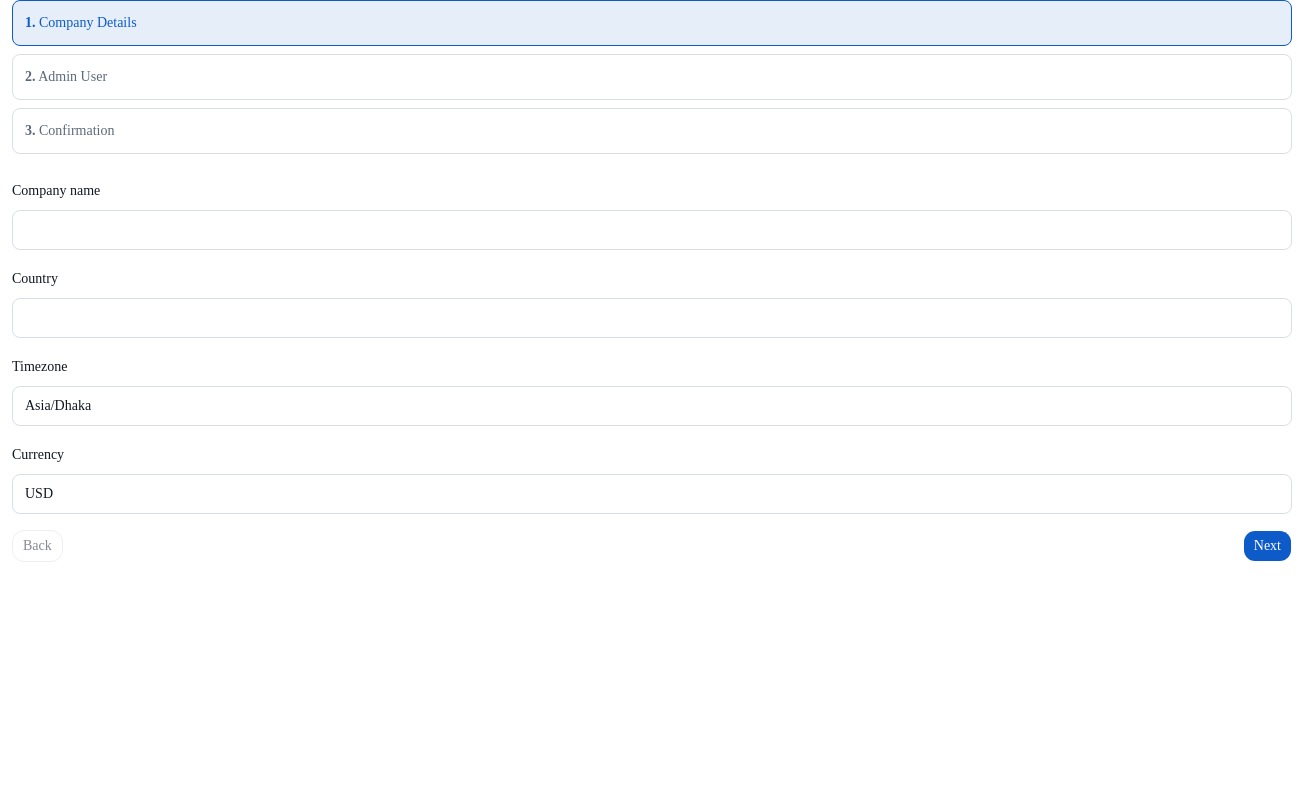
Test: RegisterWizard › blocks step navigation until the current step is valid
This screenshot has width=1304, height=800.
Click the button "Next". click: (1267, 546)
box: 1243,530 -> 1292,562
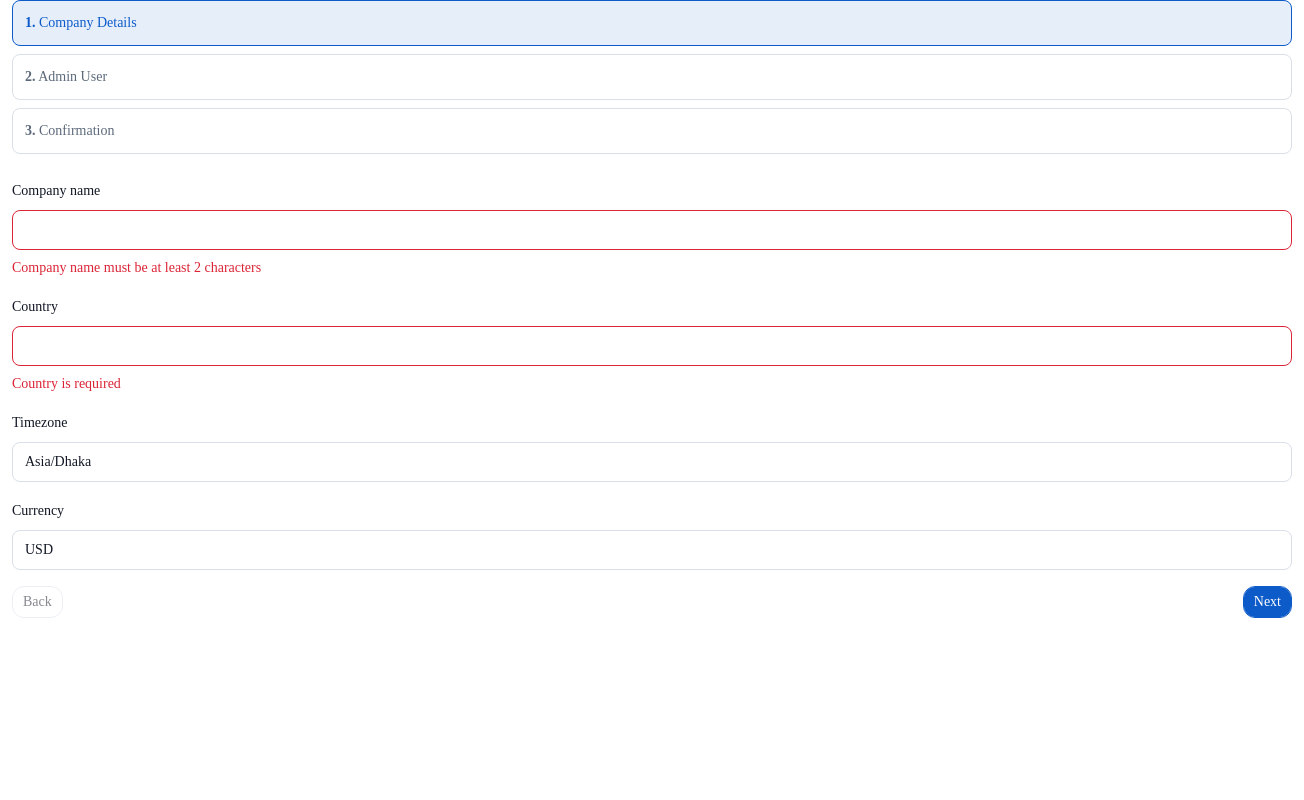
Check: the text "Company name must be at least 2 characters" is shown, box 12,260 -> 261,275
Check: the text "Country is required" is shown, box 12,376 -> 121,391
